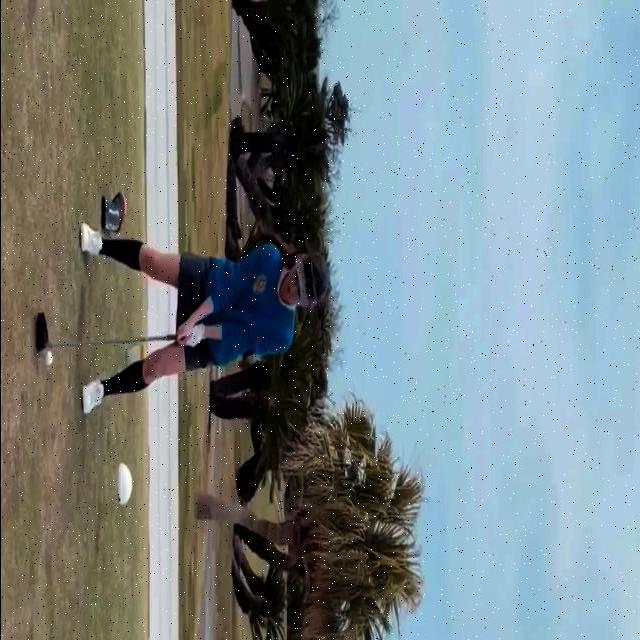ClubHandle: (36, 312, 177, 352)
ClubHead: (36, 311, 48, 352)
GolfBall: (44, 351, 51, 366)
